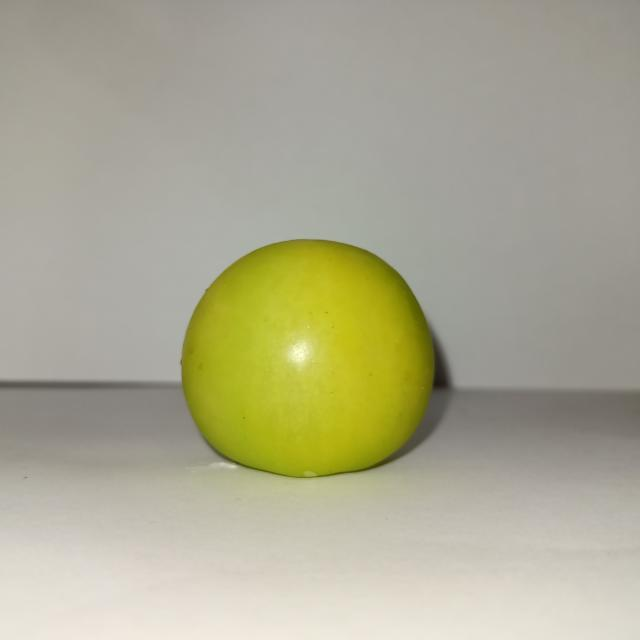Red: (179, 237, 436, 478)
